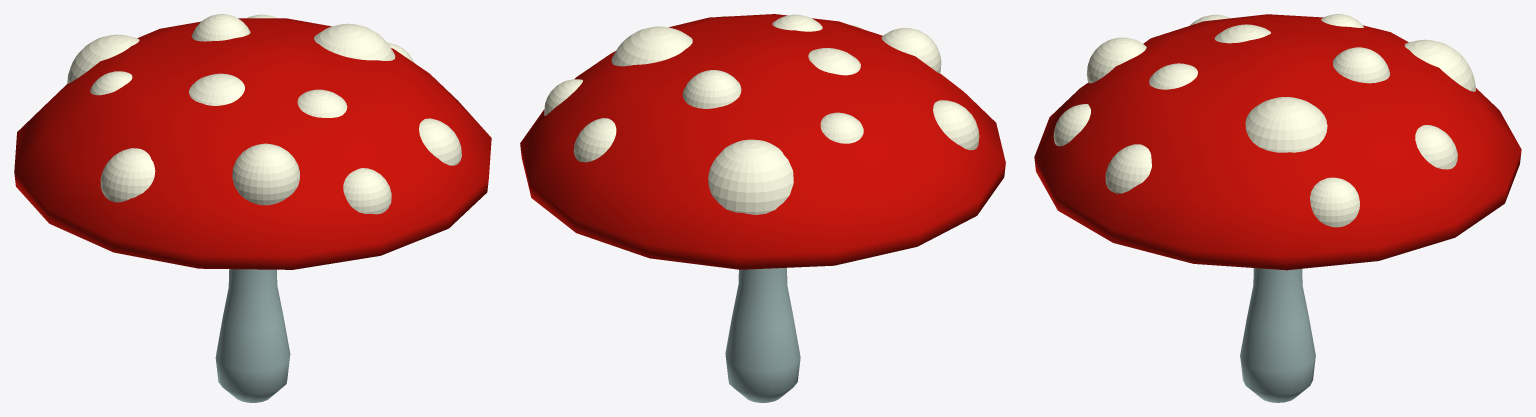
Rendered from mushroom.fbx.
The picture shows the model from 3 angles, left to right: view 1: azimuth 30°, elevation 25°; view 2: azimuth 150°, elevation 25°; view 3: azimuth 270°, elevation 25°; orthographic projection.
Parts seen in each view (by area): view 1: Plane, Plane.001, Sphere.007, Sphere.001, Sphere.004, Sphere.011, Sphere.006, Sphere.005, Sphere.003, Sphere.009, Sphere.002, Sphere; view 2: Plane, Plane.001, Sphere.006, Sphere.004, Sphere.009, Sphere.001, Sphere.007, Sphere.008, Sphere.005, Sphere, Sphere.002, Sphere.010; view 3: Plane, Plane.001, Sphere.004, Sphere.010, Sphere.003, Sphere.006, Sphere.009, Sphere.007, Sphere.008, Sphere.011, Sphere.002, Sphere.005.
Part boxes in pixels (x1=…): Plane: x1=14, y1=18, x2=491, y2=269; Plane.001: x1=215, y1=269, x2=290, y2=402; Sphere.007: x1=232, y1=143, x2=299, y2=205; Sphere.001: x1=100, y1=148, x2=155, y2=202; Sphere.004: x1=314, y1=23, x2=395, y2=60; Sphere.011: x1=343, y1=168, x2=391, y2=214; Sphere.006: x1=67, y1=34, x2=139, y2=83; Sphere.005: x1=189, y1=73, x2=244, y2=105; Sphere.003: x1=419, y1=118, x2=461, y2=165; Sphere.009: x1=191, y1=14, x2=250, y2=41; Sphere.002: x1=297, y1=89, x2=347, y2=117; Sphere: x1=90, y1=71, x2=132, y2=95; Plane: x1=520, y1=14, x2=1005, y2=269; Plane.001: x1=725, y1=268, x2=800, y2=402; Sphere.006: x1=708, y1=139, x2=793, y2=214; Sphere.004: x1=611, y1=26, x2=692, y2=66; Sphere.009: x1=682, y1=70, x2=741, y2=108; Sphere.001: x1=933, y1=100, x2=979, y2=150; Sphere.007: x1=881, y1=28, x2=941, y2=73; Sphere.008: x1=573, y1=118, x2=616, y2=162; Sphere.005: x1=808, y1=48, x2=860, y2=75; Sphere: x1=820, y1=112, x2=863, y2=143; Sphere.002: x1=772, y1=14, x2=822, y2=31; Sphere.010: x1=544, y1=79, x2=582, y2=115; Plane: x1=1034, y1=14, x2=1521, y2=270; Plane.001: x1=1240, y1=268, x2=1315, y2=402; Sphere.004: x1=1245, y1=97, x2=1327, y2=152; Sphere.010: x1=1310, y1=177, x2=1359, y2=227; Sphere.003: x1=1105, y1=144, x2=1151, y2=193; Sphere.006: x1=1404, y1=39, x2=1475, y2=91; Sphere.009: x1=1333, y1=47, x2=1389, y2=83; Sphere.007: x1=1086, y1=37, x2=1146, y2=83; Sphere.008: x1=1415, y1=125, x2=1457, y2=169; Sphere.011: x1=1053, y1=104, x2=1090, y2=146; Sphere.002: x1=1149, y1=63, x2=1197, y2=89; Sphere.005: x1=1214, y1=24, x2=1270, y2=43.
Size of the model in its own units: 819 by 656 by 819.
